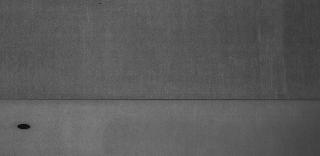punching hole: (14, 120, 36, 132)
welding line: (1, 96, 319, 105)
